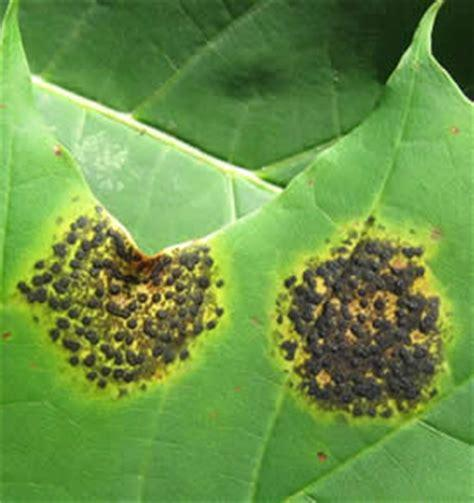black-spot: (268, 218, 452, 434)
